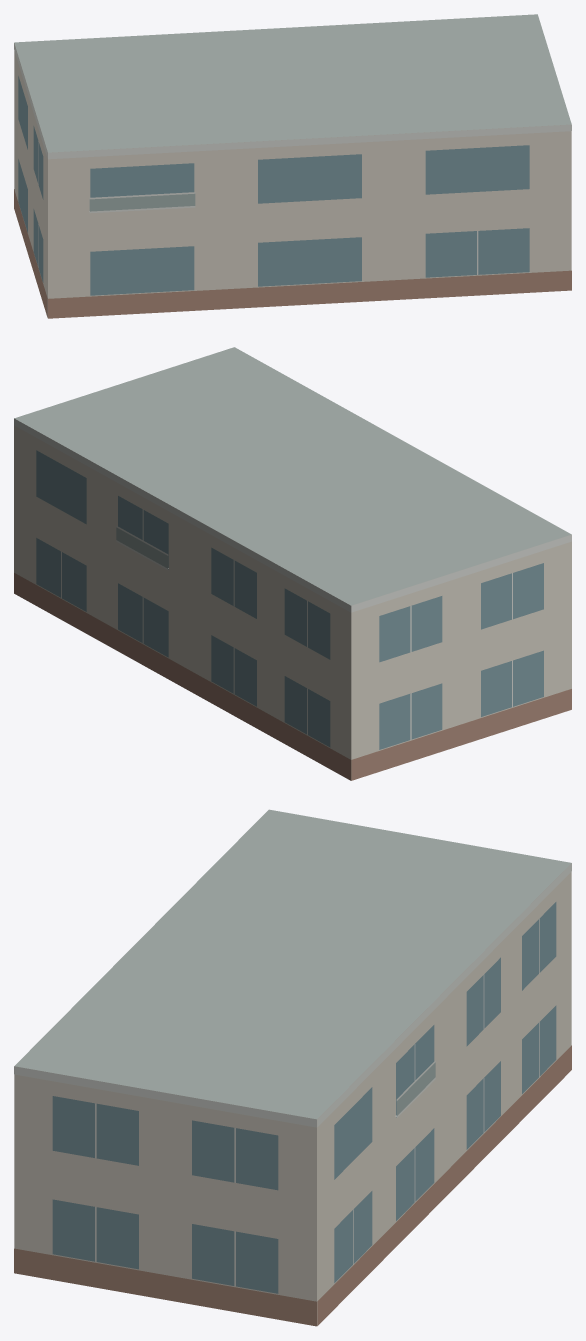
Rendered from survey-upis-32708279.glb.
The picture shows the model from 3 angles, top to bottom: view 1: azimuth 30°, elevation 25°; view 2: azimuth 150°, elevation 25°; view 3: azimuth 270°, elevation 25°; orthographic projection. The views are drawn at different scales.
Visible parts, largest first — view 1: survey-upis-32708279.tmp; view 2: survey-upis-32708279.tmp; view 3: survey-upis-32708279.tmp.
Boxes of the visible parts, box(x1,y1,x2,y2) form: survey-upis-32708279.tmp: box(14, 14, 571, 318); survey-upis-32708279.tmp: box(14, 347, 571, 780); survey-upis-32708279.tmp: box(14, 809, 571, 1326).
Size of the model in its own units: 19.59 by 6.1 by 14.9.
